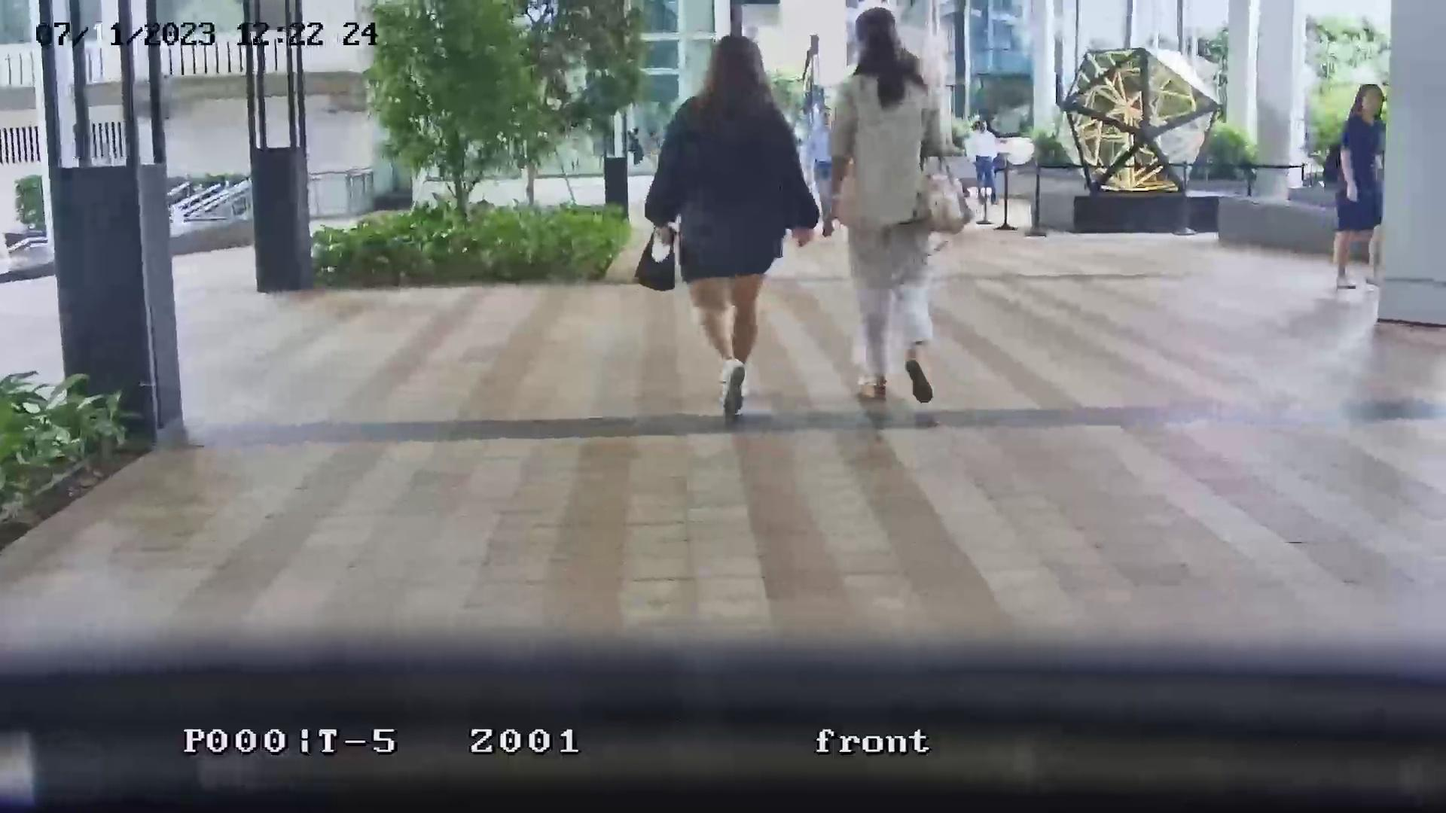person: (642, 33, 822, 424), (819, 6, 953, 404), (1332, 83, 1387, 291), (965, 116, 1001, 224)
